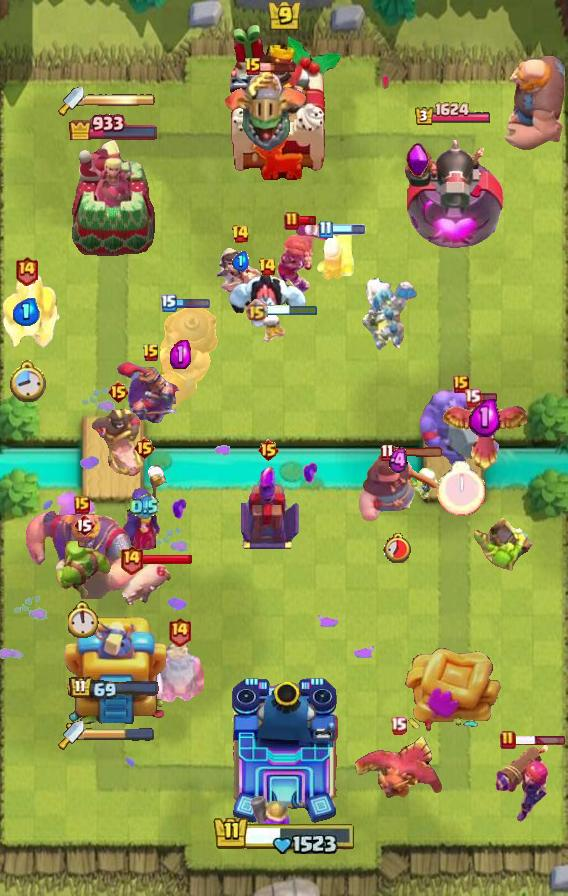archer-queen: (420, 386, 502, 470)
axe: (120, 462, 168, 553)
balloon: (500, 51, 568, 153)
bar: (62, 611, 166, 731), (70, 138, 158, 256)
bomb-tower: (250, 796, 292, 848)
clock: (212, 812, 356, 854)
electro-spirit: (469, 397, 501, 437), (13, 298, 40, 326), (130, 494, 158, 520), (169, 339, 190, 368), (388, 447, 407, 474), (231, 251, 248, 271)
elixir: (437, 461, 485, 516), (7, 358, 46, 402), (68, 601, 100, 638), (383, 532, 413, 563)
elixir-golem-big: (114, 359, 188, 425)
elixir-golem-small: (0, 275, 60, 353)
emote: (266, 303, 319, 316), (141, 553, 193, 565), (393, 446, 445, 457), (514, 735, 566, 746), (260, 61, 297, 73), (330, 224, 366, 235), (175, 299, 211, 310), (478, 392, 498, 403), (298, 215, 317, 226)
flying-machine: (56, 541, 112, 599)
freeze: (90, 407, 146, 477)
giant: (118, 561, 174, 611)
golden-knight: (439, 397, 531, 471)
heal-spirit: (405, 468, 439, 500), (259, 311, 287, 347)
ice-spirit-evolution-symbol: (236, 464, 300, 552)
king-tower: (224, 23, 344, 181), (228, 676, 340, 826)
king-tower-bar: (84, 93, 156, 107), (84, 728, 154, 742)
lightning: (23, 509, 141, 599)
mega-minion: (492, 739, 552, 825)
mini-pekka: (357, 274, 421, 356)
mortar-evolution: (151, 641, 207, 707)
mother-witch: (350, 736, 446, 804)
night-witch: (221, 69, 307, 153)
rage: (226, 272, 308, 330)
royal-hog: (355, 450, 441, 522)
selected: (68, 112, 160, 140), (68, 675, 159, 700), (414, 101, 492, 126)
skeleton-dragon: (215, 245, 265, 301)
skeleton-king-skill: (406, 143, 430, 179)
tesla-evolution: (274, 219, 332, 293)
text: (14, 254, 39, 285), (167, 616, 192, 647), (119, 545, 144, 575), (256, 438, 280, 462), (244, 298, 267, 322), (106, 380, 129, 404), (132, 436, 155, 460), (73, 513, 95, 537), (258, 257, 278, 277), (230, 224, 249, 244), (244, 57, 262, 77), (142, 343, 160, 363), (463, 388, 481, 407), (284, 211, 300, 231), (500, 730, 516, 750), (389, 717, 406, 735), (161, 294, 177, 312), (453, 375, 469, 393), (74, 496, 90, 514), (319, 220, 334, 239), (381, 442, 396, 461)
tombstone: (314, 225, 356, 283)
tower-bar: (401, 132, 508, 256)
wizard: (139, 302, 221, 416)
x-bow: (473, 516, 535, 572)
